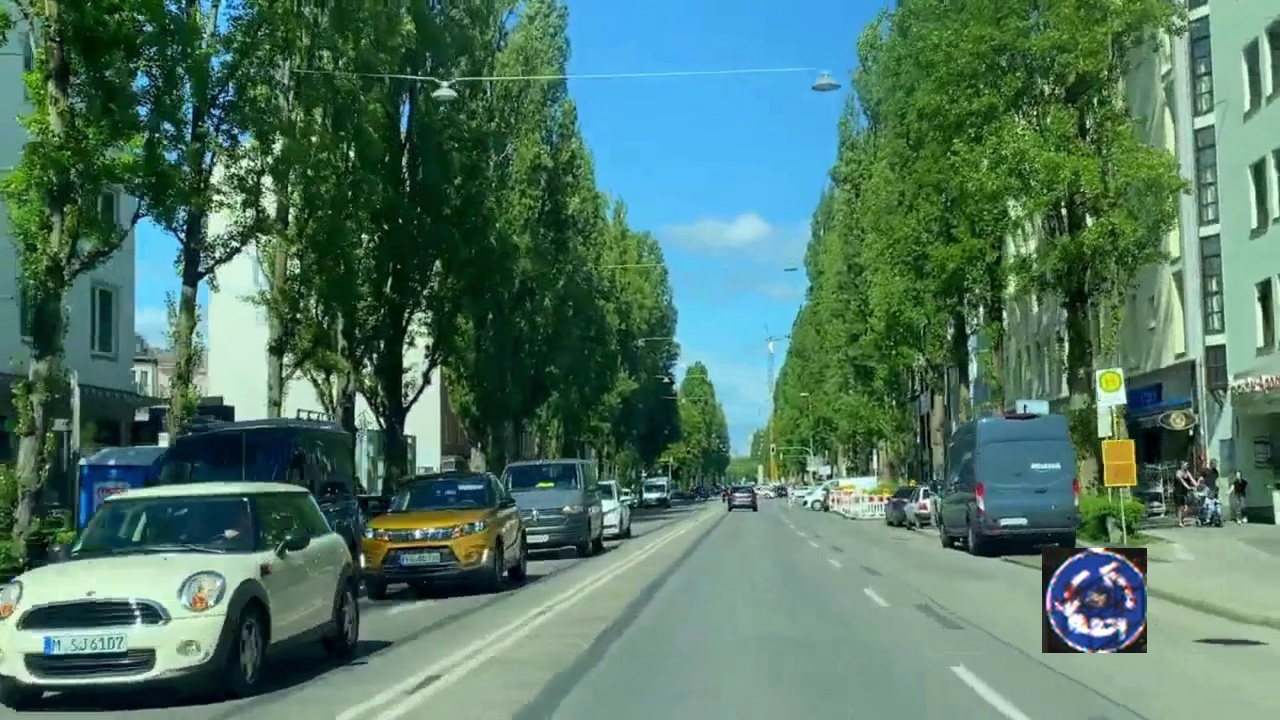Roundabout: (1042, 548, 1147, 653)
